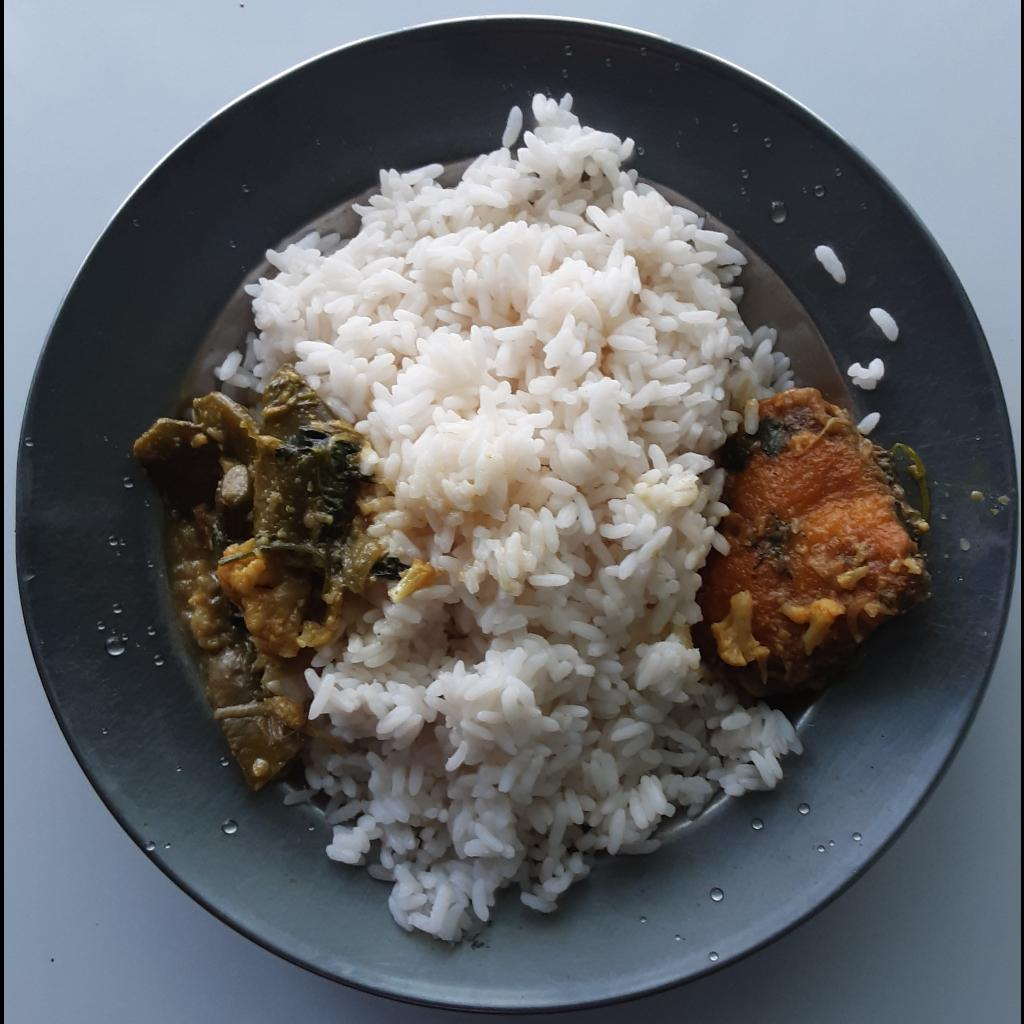cauliflower: (218, 536, 333, 665), (713, 594, 775, 664)
fish: (700, 382, 937, 702)
rice: (201, 88, 803, 950)
shim: (136, 355, 374, 801)
